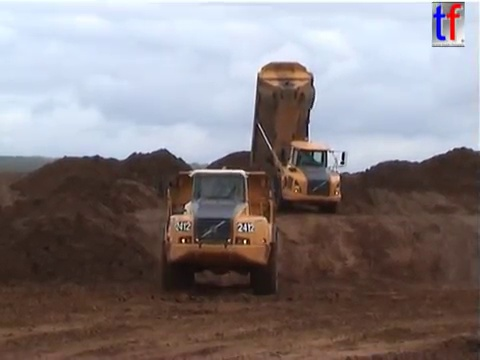truck: (156, 162, 285, 296), (246, 59, 348, 215)
